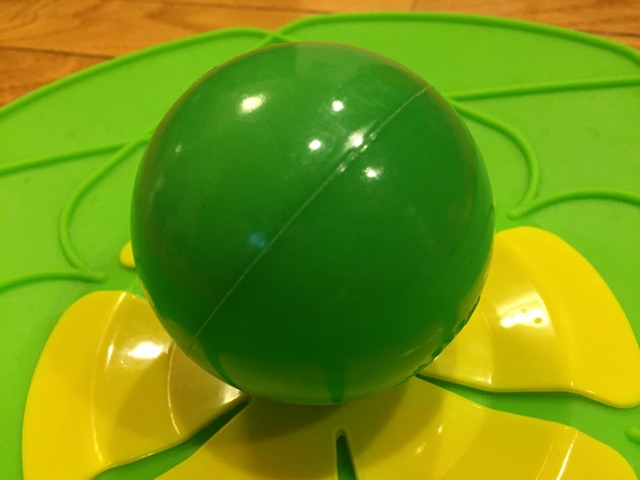Ball: (128, 43, 494, 405)
